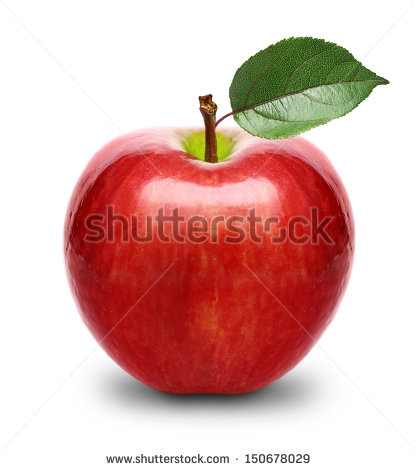apple: (65, 122, 365, 404)
